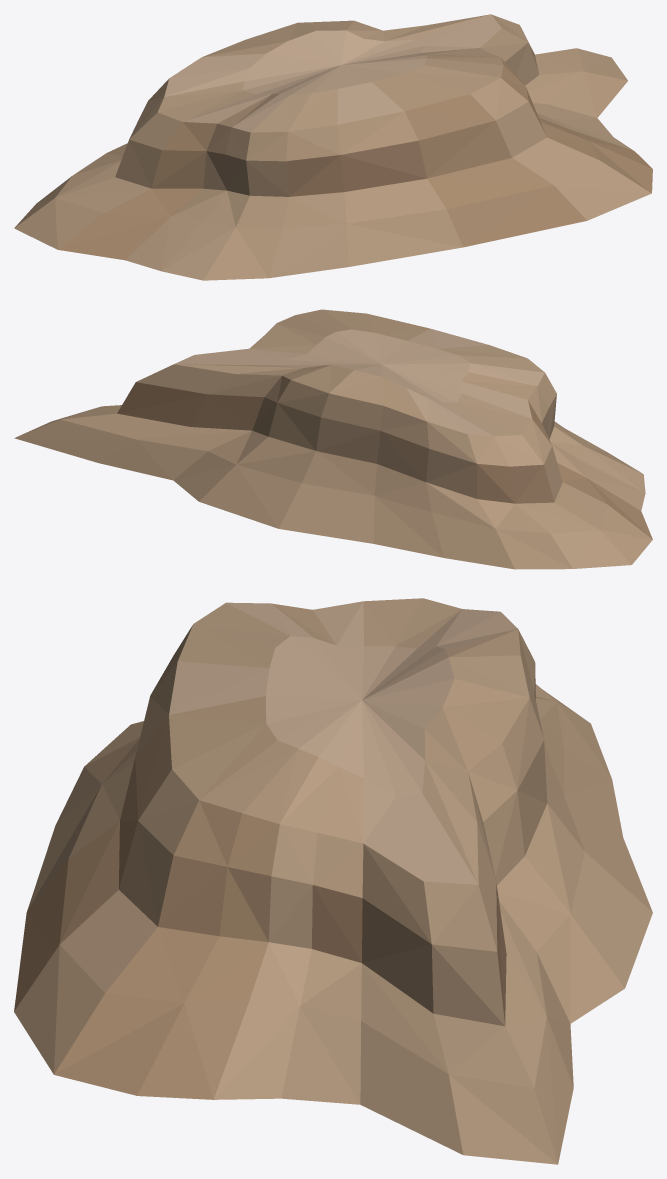
The model's file is BrokenMesa.fbx.
3 renders of one model, top to bottom at view 1: azimuth 30°, elevation 25°; view 2: azimuth 150°, elevation 25°; view 3: azimuth 270°, elevation 25°, orthographic. The views are drawn at different scales.
Visible parts, largest first — view 1: BrokenMesa; view 2: BrokenMesa; view 3: BrokenMesa.
Part boxes in pixels (x1,y1,x2,y2): BrokenMesa: (14, 14, 652, 280); BrokenMesa: (14, 309, 652, 569); BrokenMesa: (14, 598, 652, 1164).
Size of the model in its own units: 15200 by 3000 by 8000.
Materials: 1 (1 with a texture image).
